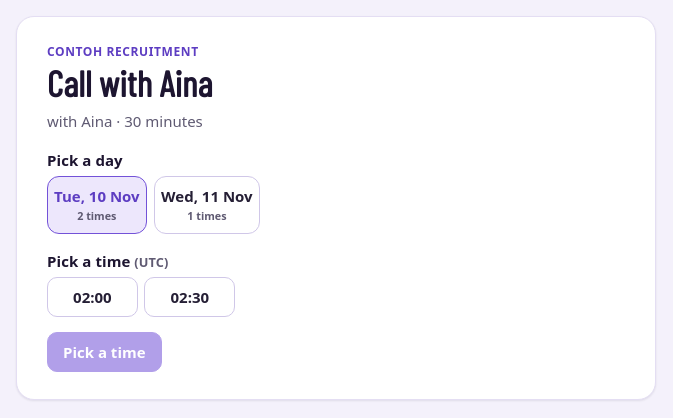
booking page › books the time picked
expect the heading "Call with Aina" is shown: met, box [47,61,213,104]
Step 1. Click the radio button labelled "02:30" → [190, 297], box [144,277,235,318]
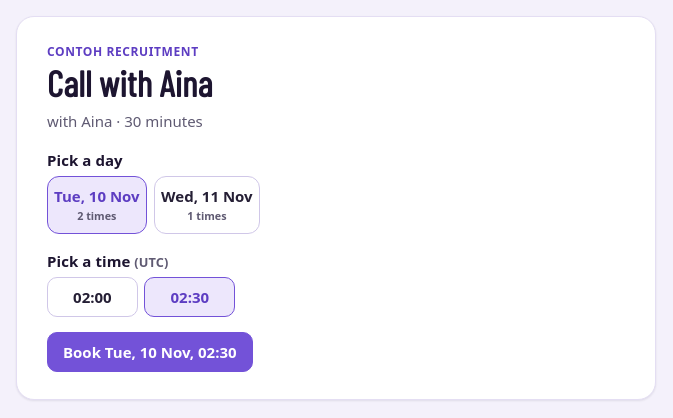
Step 2. Click the button "Book Tue, 10 Nov, 02:30" → [150, 352], box [47,332,253,372]
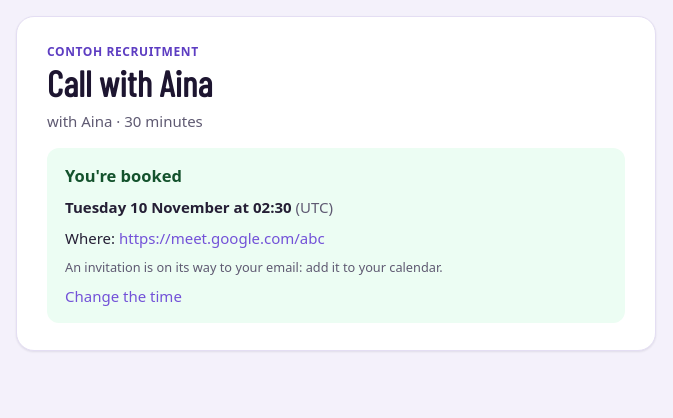
expect the text "You're booked" is shown: met, box [65,164,182,187]
expect the link "https://meet.google.com/abc" is shown: met, box [119,228,325,248]
expect the button "Change the time" is shown: met, box [65,285,182,308]
